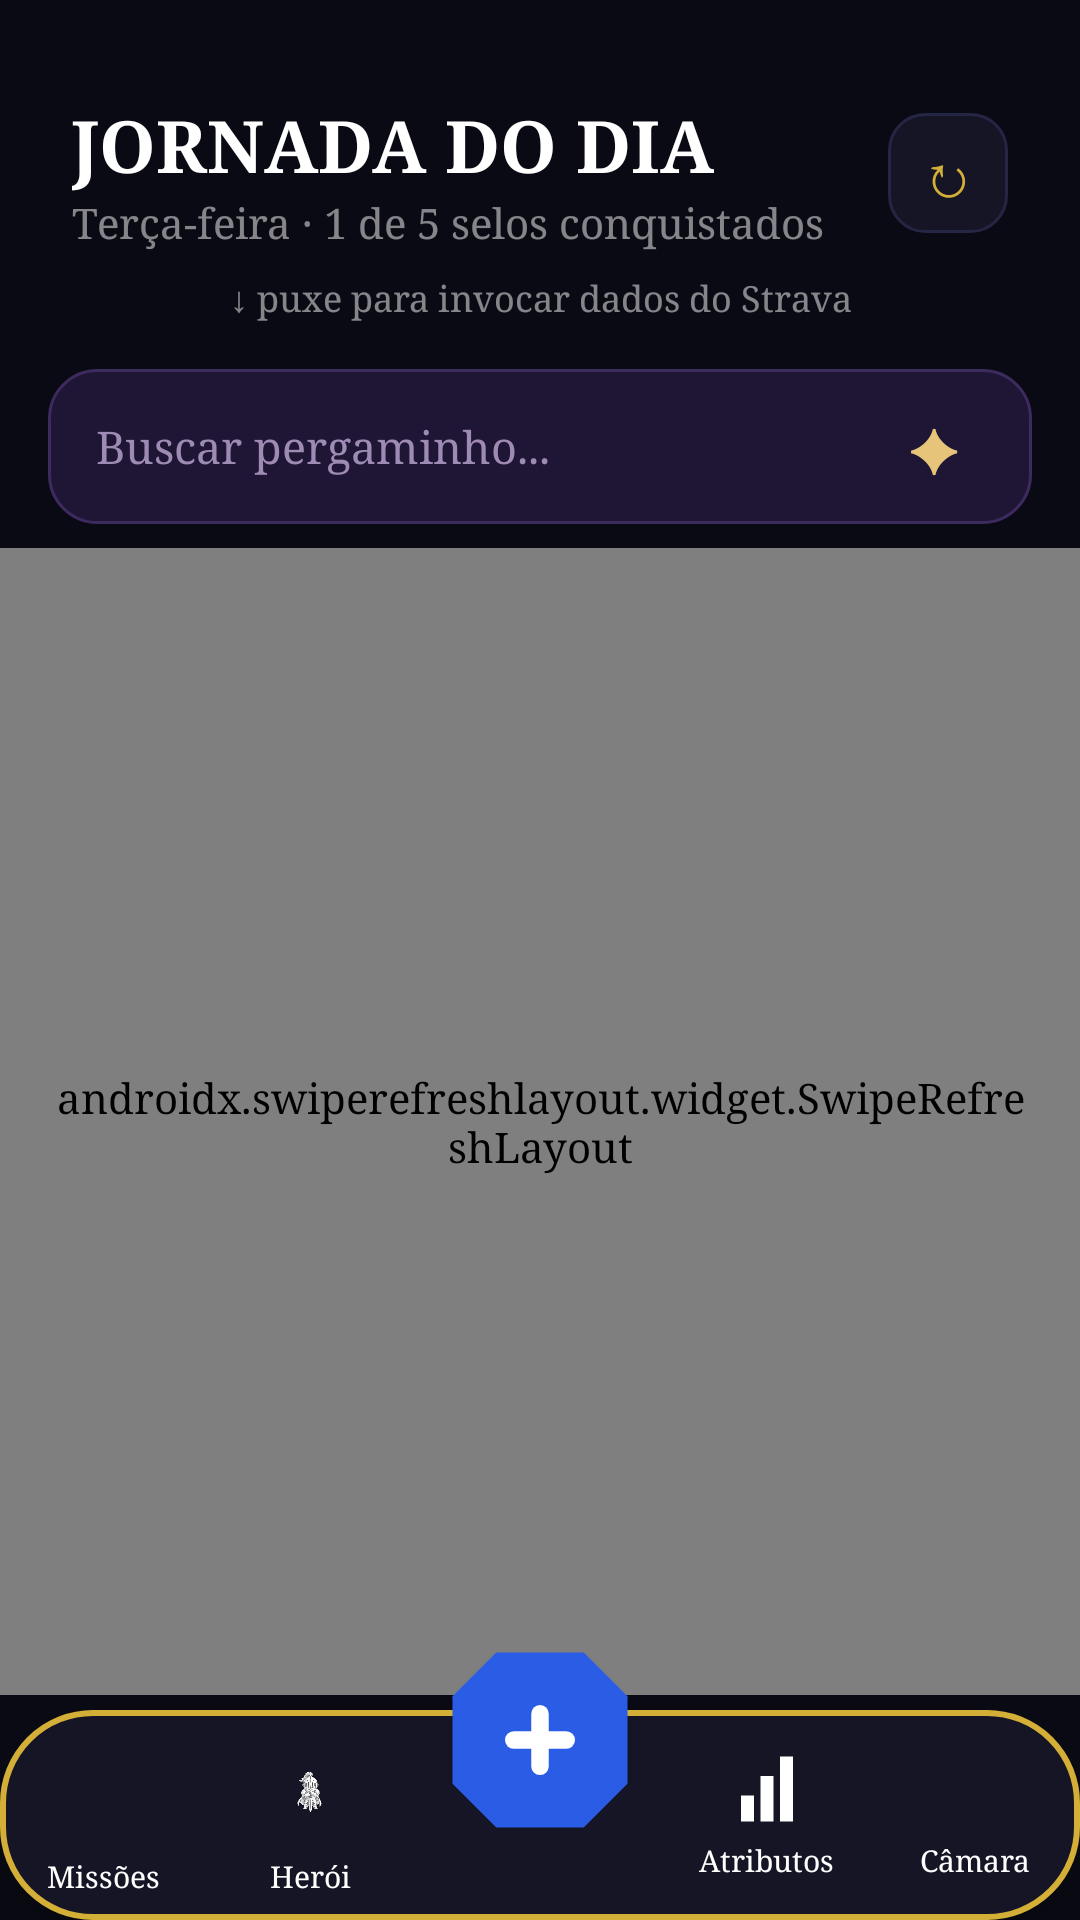

Icons on this 1080px x 1920px Android screen, each with the point to tap as [x,y]:
iconeperfil: [309,1792]
